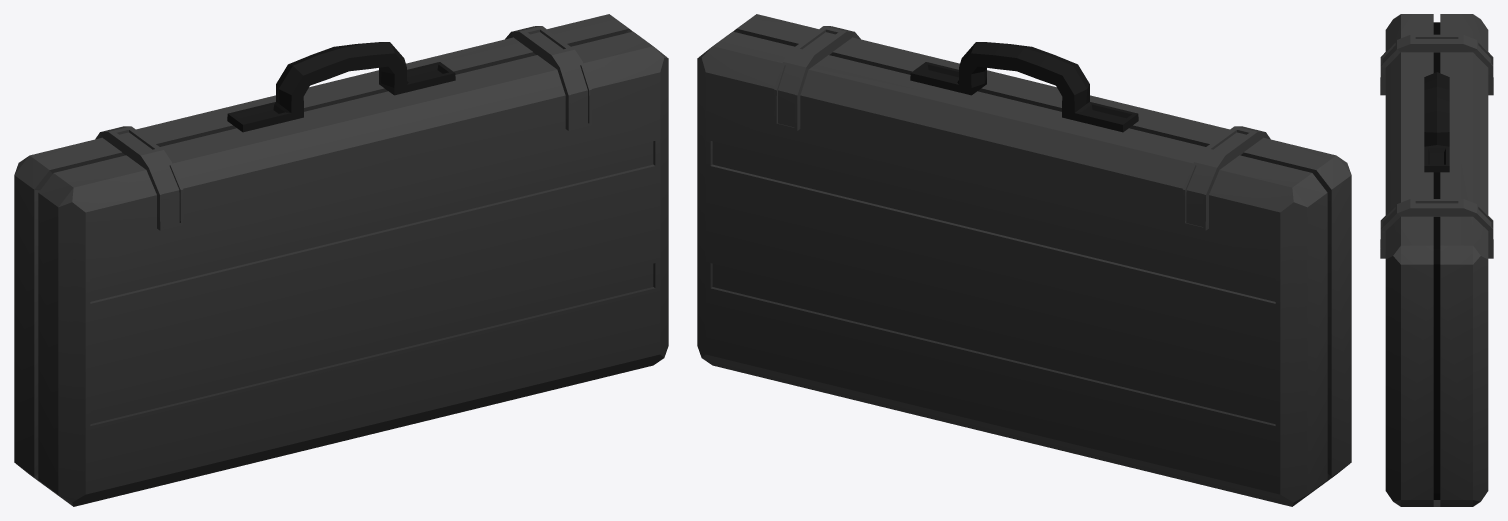
File: SuitcaseV1.fbx
3 views of the same model, side by side, from view 1: azimuth 30°, elevation 25°; view 2: azimuth 150°, elevation 25°; view 3: azimuth 270°, elevation 25° (orthographic). The views are drawn at different scales.
Visible parts, largest first — view 1: SuitcaseV1; view 2: SuitcaseV1; view 3: SuitcaseV1.
Boxes of the visible parts, bbox=[...] form: SuitcaseV1: bbox=[14, 14, 668, 506]; SuitcaseV1: bbox=[697, 14, 1351, 506]; SuitcaseV1: bbox=[1380, 14, 1493, 506].
Size of the model in its own units: 80 by 46.6 by 15.7.
